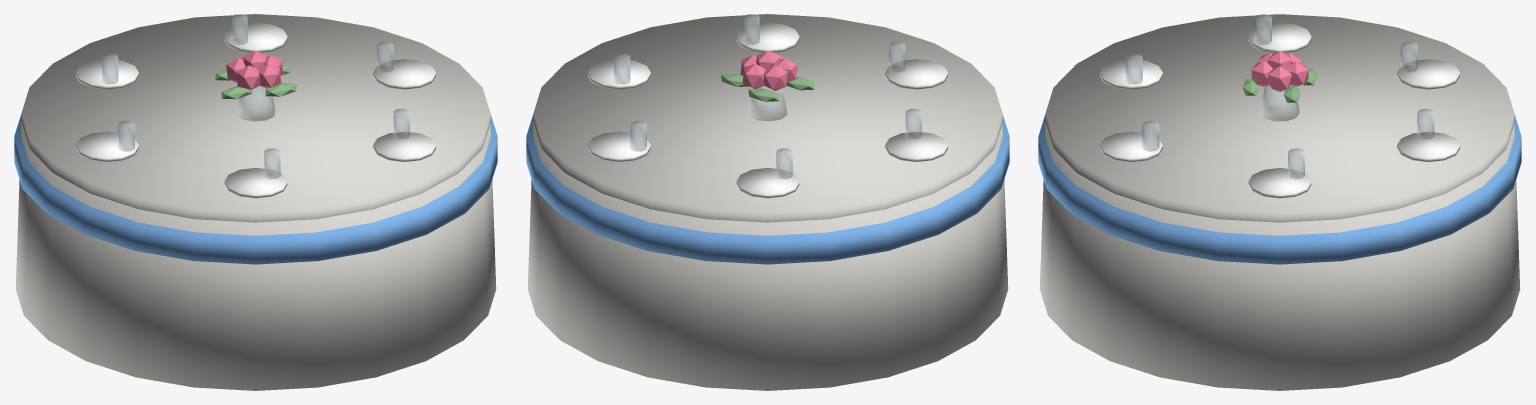
Rendered from dinner-table.glb.
The picture shows the model from 3 angles, left to right: view 1: azimuth 30°, elevation 25°; view 2: azimuth 150°, elevation 25°; view 3: azimuth 270°, elevation 25°; orthographic projection.
Parts seen in each view (by area): view 1: BanquetTable; view 2: BanquetTable; view 3: BanquetTable.
Boxes of the visible parts, x1,y1,x2,y2 form: BanquetTable: (14,14,497,390); BanquetTable: (526,14,1009,390); BanquetTable: (1038,14,1521,390).
Bounding box in the file's own units: 1.69 × 0.92 × 1.69.
